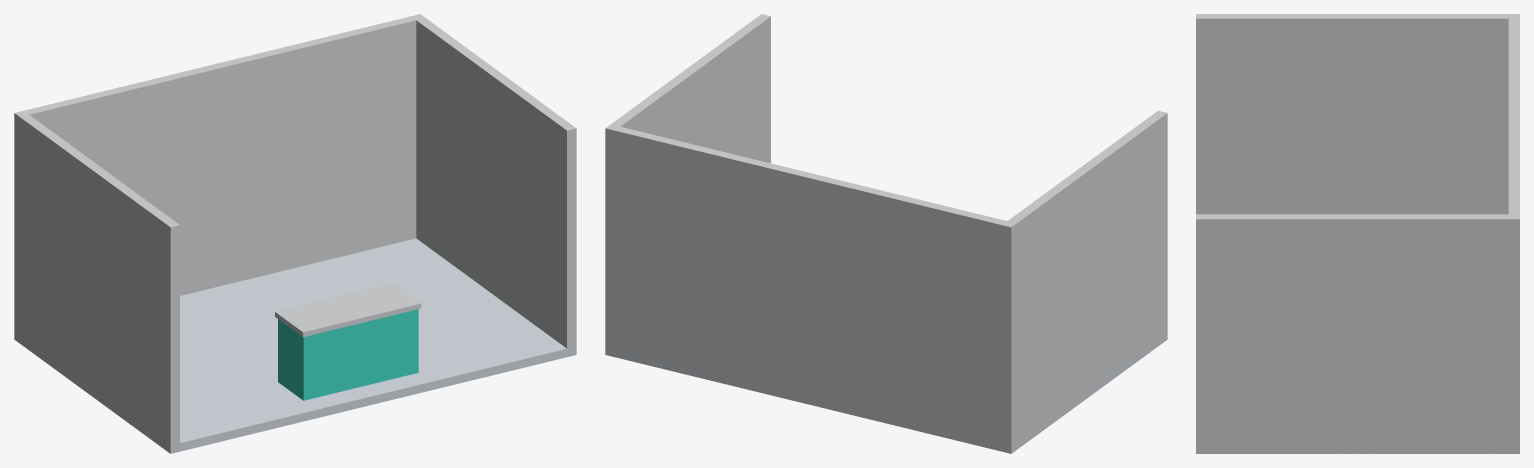
3 views of the same model, side by side, from view 1: azimuth 30°, elevation 25°; view 2: azimuth 150°, elevation 25°; view 3: azimuth 270°, elevation 25° (orthographic). The views are drawn at different scales.
Visible parts, largest first — view 1: Exhibition Booth Concept; view 2: Exhibition Booth Concept; view 3: Exhibition Booth Concept.
Part boxes in pixels (x1=…): Exhibition Booth Concept: x1=14, y1=14, x2=576, y2=453; Exhibition Booth Concept: x1=605, y1=14, x2=1167, y2=453; Exhibition Booth Concept: x1=1196, y1=14, x2=1519, y2=453.
Bounding box in the file's own units: 6 × 3.2 × 4.
